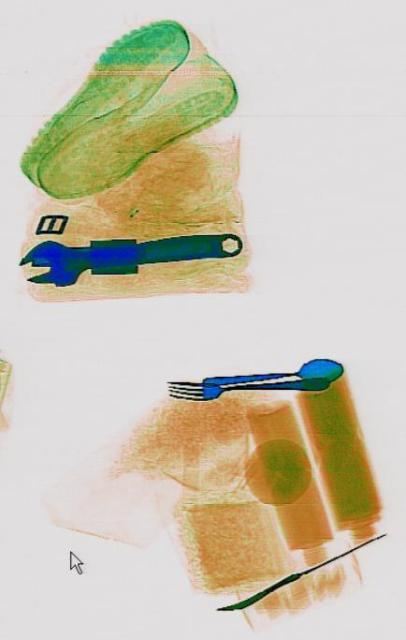Wrench: (14, 220, 241, 290)
